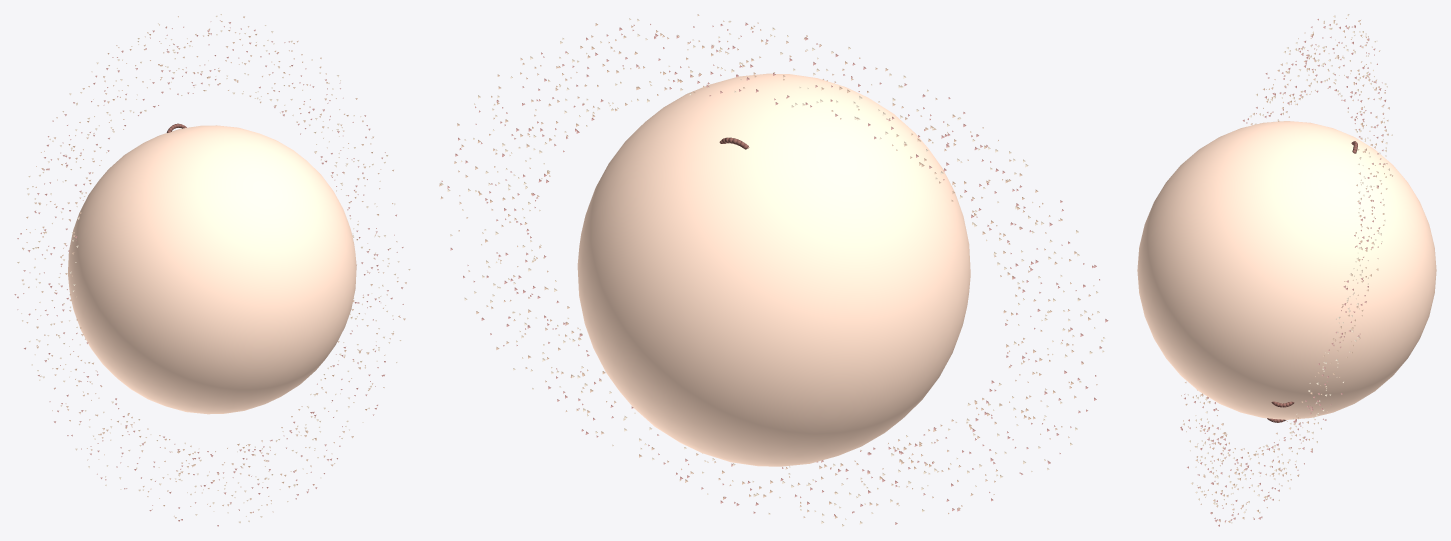
File: planet_dune.glb
3 views of the same model, side by side, from view 1: azimuth 30°, elevation 25°; view 2: azimuth 150°, elevation 25°; view 3: azimuth 270°, elevation 25° (orthographic). The views are drawn at different scales.
Parts seen in each view (by area): view 1: Atmosphere, DustRing; view 2: Atmosphere, DustRing; view 3: Atmosphere, DustRing.
Boxes of the visible parts, x1=… form: Atmosphere: x1=68, y1=125, x2=356, y2=414; DustRing: x1=14, y1=14, x2=410, y2=526; Atmosphere: x1=577, y1=73, x2=970, y2=466; DustRing: x1=439, y1=14, x2=1108, y2=526; Atmosphere: x1=1137, y1=121, x2=1436, y2=419; DustRing: x1=1180, y1=14, x2=1392, y2=526.
Bounding box in the file's own units: 3.78 × 3.67 × 2.2.
